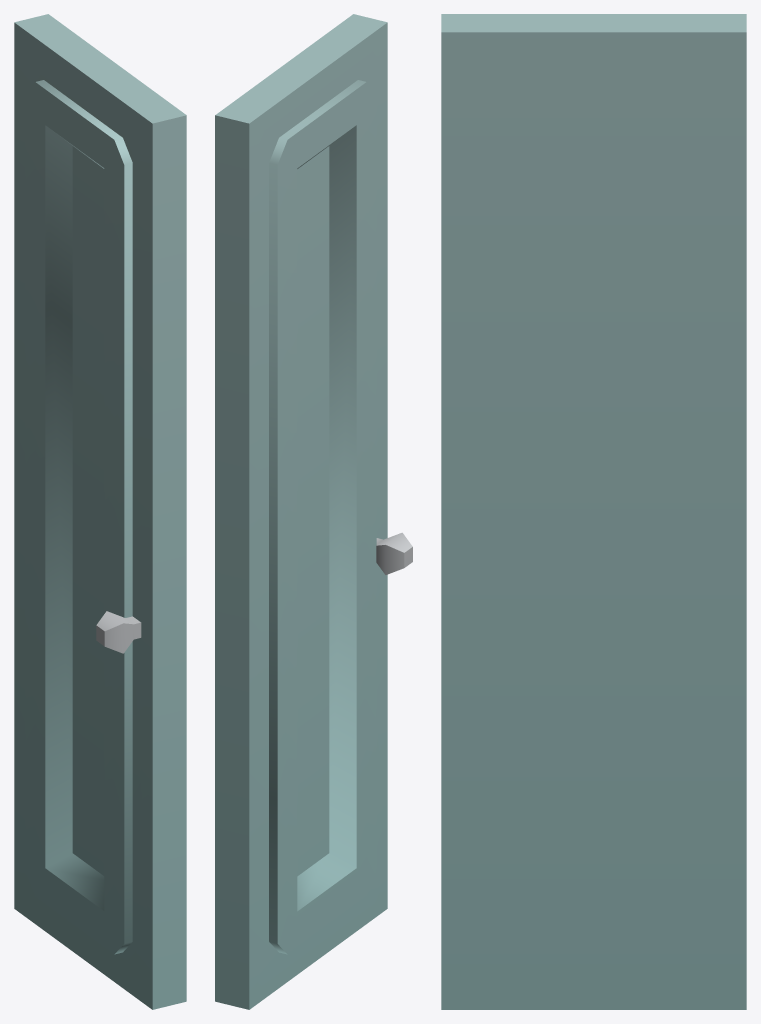
Rendered from (%no-merge) (%open-left) 2_0.glb.
3 views of the same model, side by side, from view 1: azimuth 30°, elevation 25°; view 2: azimuth 150°, elevation 25°; view 3: azimuth 270°, elevation 25° (orthographic). The views are drawn at different scales.
Visible parts, largest first — view 1: (%no-merge) (%open-left) 2; view 2: (%no-merge) (%open-left) 2; view 3: (%no-merge) (%open-left) 2.
Boxes of the visible parts, <box> form: (%no-merge) (%open-left) 2: <box>14,14,186,1009</box>; (%no-merge) (%open-left) 2: <box>215,14,412,1009</box>; (%no-merge) (%open-left) 2: <box>441,14,746,1009</box>.
Size of the model in its own units: 0.1032 by 1.24 by 0.35.
